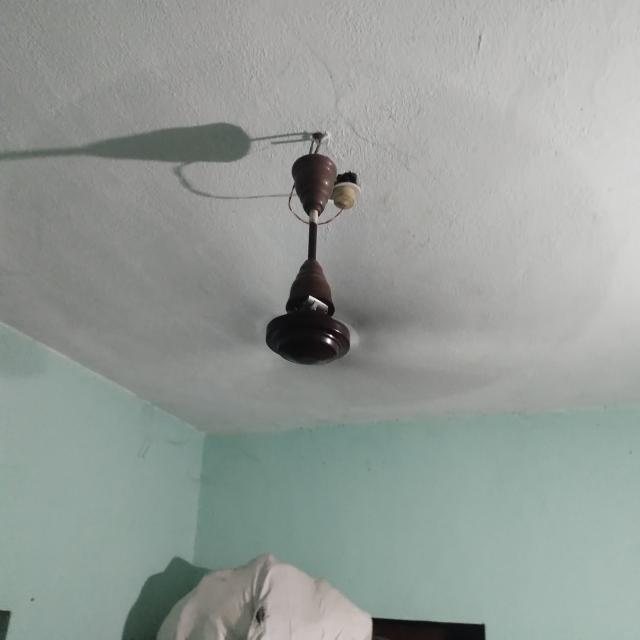fan_on: (28, 66, 609, 410)
